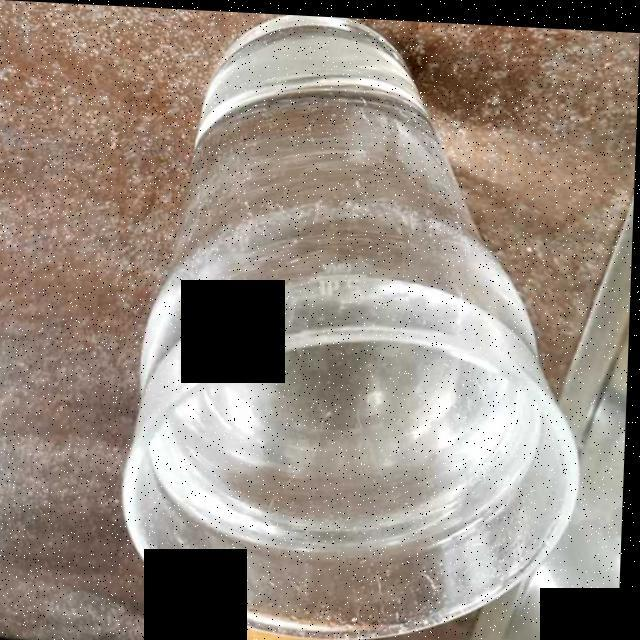water: (142, 78, 555, 575)
